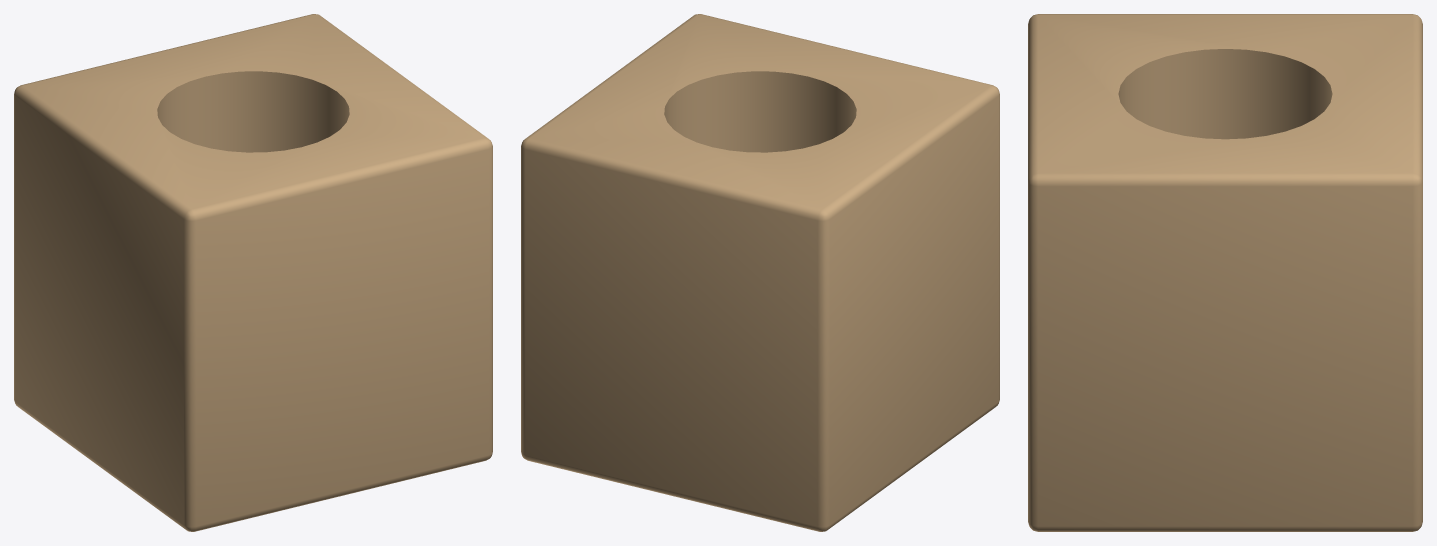
The model's file is blk_pillar.glb.
3 views of the same model, side by side, from view 1: azimuth 30°, elevation 25°; view 2: azimuth 150°, elevation 25°; view 3: azimuth 270°, elevation 25° (orthographic). The views are drawn at different scales.
Parts seen in each view (by area): view 1: blk_pillar_lod0; view 2: blk_pillar_lod0; view 3: blk_pillar_lod0.
Boxes of the visible parts, x1,y1,x2,y2 form: blk_pillar_lod0: [14, 14, 492, 531]; blk_pillar_lod0: [521, 14, 999, 531]; blk_pillar_lod0: [1028, 14, 1422, 531].
Size of what is drawn, in the model's own units: 0.059 by 0.059 by 0.059.
